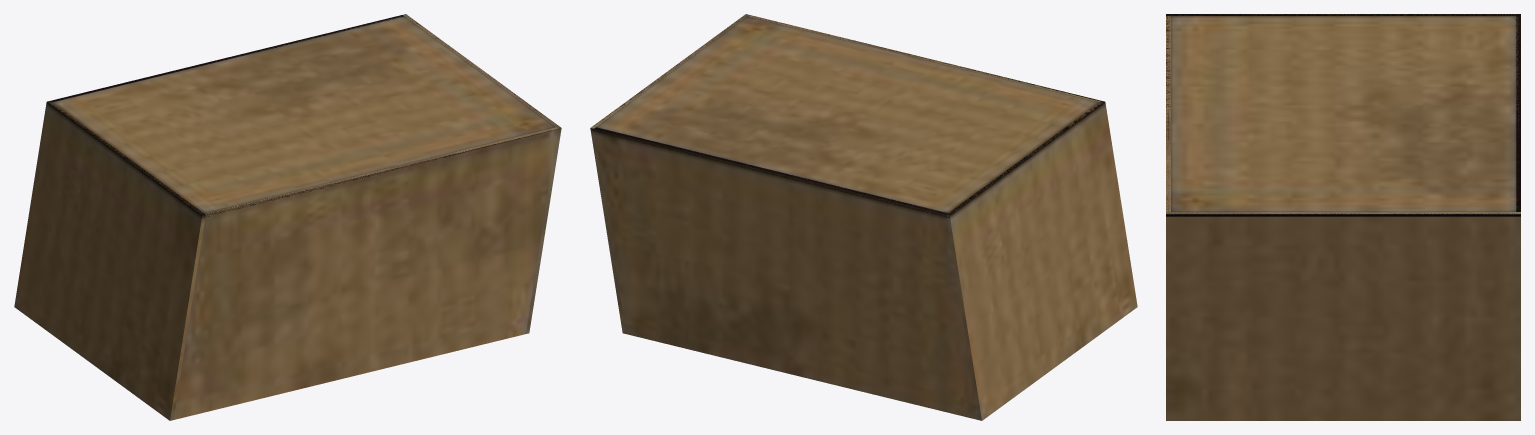
File: box_crushed_lod1_web.glb
3 renders of one model, left to right at view 1: azimuth 30°, elevation 25°; view 2: azimuth 150°, elevation 25°; view 3: azimuth 270°, elevation 25°, orthographic. The views are drawn at different scales.
Parts seen in each view (by area): view 1: BoxCrushed_Body; view 2: BoxCrushed_Body; view 3: BoxCrushed_Body.
Part boxes in pixels (x1,y1,x2,y2): BoxCrushed_Body: (14, 14, 561, 420); BoxCrushed_Body: (590, 14, 1137, 420); BoxCrushed_Body: (1166, 14, 1520, 420).
Bounding box in the file's own units: 0.436 × 0.21 × 0.3.
Materials: 1 (1 with a texture image).
